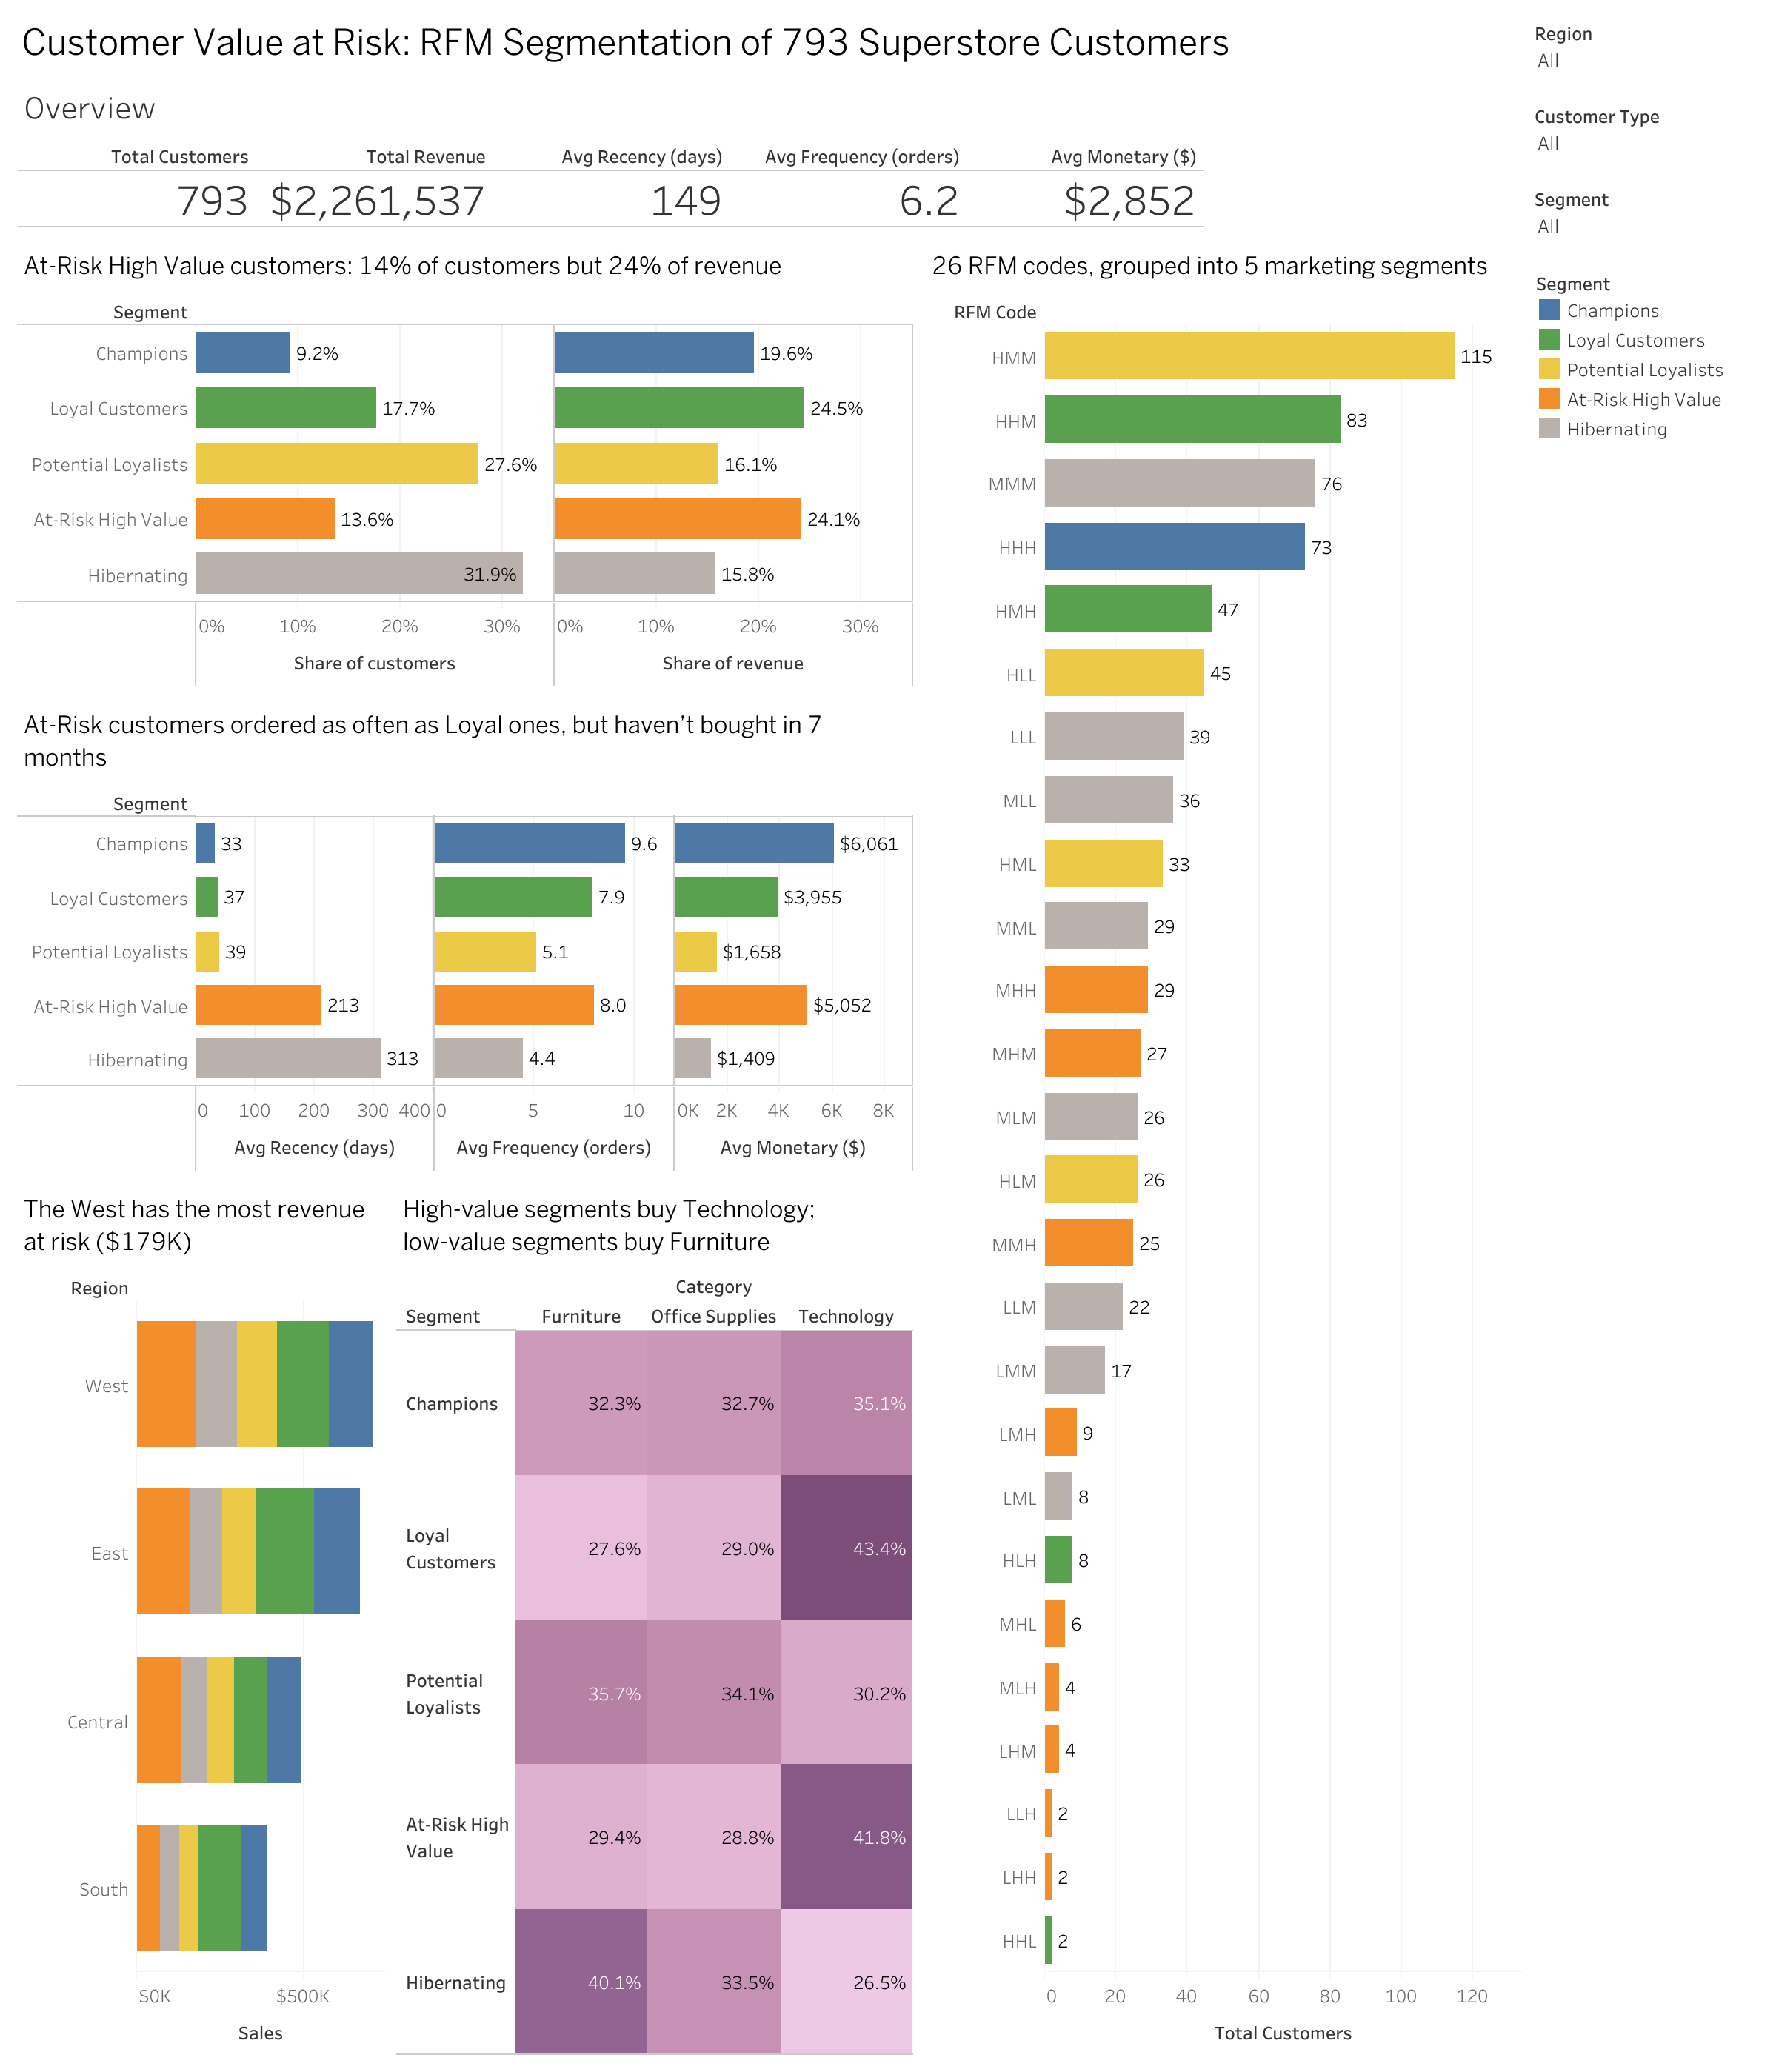

The dashboard page shown, as its layout file describes it:
{"tool":"tableau","page":{"name":"RFM Dashboard","canvas":[1200,1400],"ordinal":0},"visuals":[{"type":"title","box":[8,8,1024,39]},{"type":"filter","title":"RFM Distribution","param":"[federated.1go2s451n3zyoi11p8z7418n6cx1].[none:Region:nk]","box":[1032,8,160,52]},{"type":"worksheet","title":"KPI Summary","mark":"Automatic","box":[8,47,1024,110]},{"type":"filter","title":"RFM Distribution","param":"[federated.1go2s451n3zyoi11p8z7418n6cx1].[none:Customer_Type:nk]","box":[1032,60,160,52]},{"type":"filter","title":"RFM Distribution","param":"[federated.1go2s451n3zyoi11p8z7418n6cx1].[none:Segment:nk]","box":[1032,112,160,52]},{"type":"worksheet","title":"Segment Value","mark":"Automatic","rows":["Segment"],"cols":["Calculation_2809868045901824","Calculation_2809868045983745"],"box":[8,157,613,310.4]},{"type":"worksheet","title":"RFM Distribution","mark":"Automatic","rows":["RFM_Code"],"cols":["Calculation_2809868045901824"],"box":[621,157,411,1235]},{"type":"legend","title":"RFM Distribution","param":"[federated.1go2s451n3zyoi11p8z7418n6cx1].[none:Segment:nk]","box":[1032,164,160,126]},{"type":"worksheet","title":"Segment Profile","mark":"Automatic","rows":["Segment"],"cols":["Calculation_2809868046086146","Calculation_2809868046118915","Calculation_2809868046176260"],"box":[8,467.3,613,327.6]},{"type":"worksheet","title":"Region Mix","mark":"Automatic","rows":["Region"],"cols":["Sales"],"box":[8,794.9,256,597.1]},{"type":"worksheet","title":"Category Mix","mark":"Square","rows":["Segment"],"cols":["Category"],"box":[264,794.9,357,597.1]}]}

Visuals, with their boxes in screenshot pixels (x1, y1, x2, y2), scaled from the page's 1200x1400 canvas onto the 1776x2072 screenshot:
title: {"x1": 12, "y1": 12, "x2": 1527, "y2": 70}
"RFM Distribution" filter: {"x1": 1527, "y1": 12, "x2": 1764, "y2": 89}
"KPI Summary" worksheet: {"x1": 12, "y1": 70, "x2": 1527, "y2": 233}
"RFM Distribution" filter: {"x1": 1527, "y1": 89, "x2": 1764, "y2": 166}
"RFM Distribution" filter: {"x1": 1527, "y1": 166, "x2": 1764, "y2": 243}
"Segment Value" worksheet: {"x1": 12, "y1": 233, "x2": 919, "y2": 692}
"RFM Distribution" worksheet: {"x1": 919, "y1": 233, "x2": 1527, "y2": 2060}
"RFM Distribution" legend: {"x1": 1527, "y1": 243, "x2": 1764, "y2": 430}
"Segment Profile" worksheet: {"x1": 12, "y1": 692, "x2": 919, "y2": 1177}
"Region Mix" worksheet: {"x1": 12, "y1": 1177, "x2": 391, "y2": 2060}
"Category Mix" worksheet (Square marks): {"x1": 391, "y1": 1177, "x2": 919, "y2": 2060}
